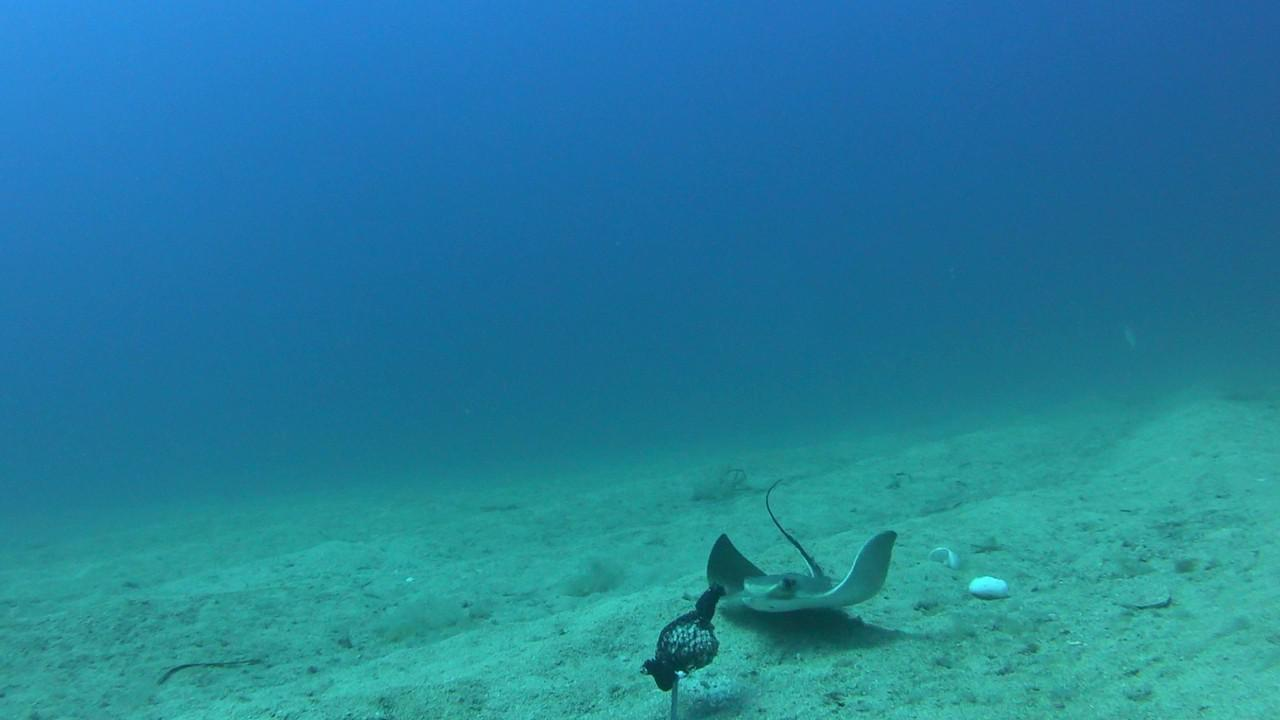myliobatis: (696, 467, 947, 636)
